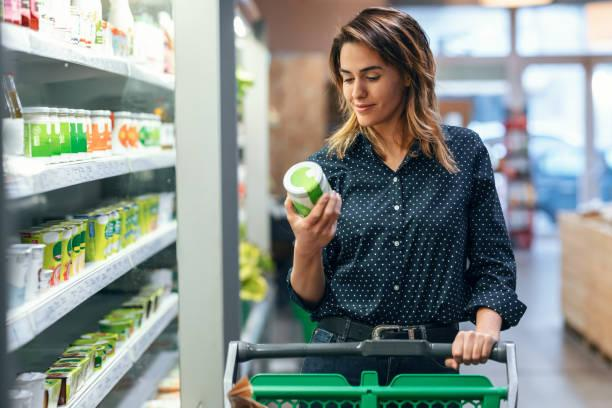article: (284, 161, 331, 216), (47, 366, 82, 404), (88, 111, 110, 151), (100, 319, 132, 339)
